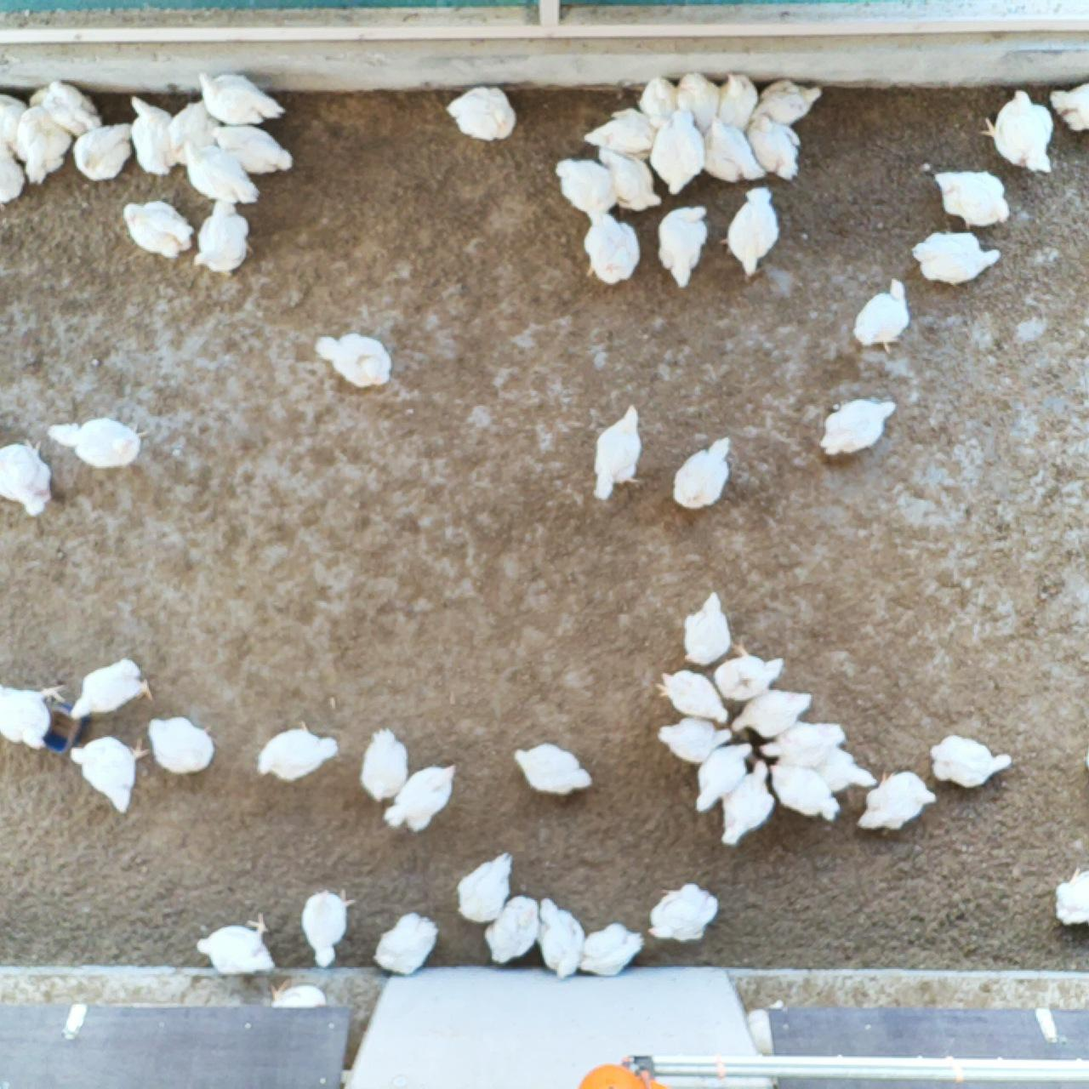chicken: (979, 84, 1059, 173), (44, 409, 148, 473), (68, 736, 148, 814), (255, 714, 344, 784), (650, 199, 712, 299), (194, 68, 288, 131), (854, 766, 940, 834), (589, 401, 645, 505), (910, 227, 1002, 290), (726, 182, 784, 281), (644, 105, 708, 194), (178, 137, 261, 204), (577, 203, 644, 286), (191, 912, 279, 975), (765, 761, 847, 828), (717, 757, 778, 847), (192, 196, 258, 276), (926, 730, 1017, 788), (381, 760, 455, 831), (452, 847, 516, 927), (816, 395, 897, 458), (715, 636, 791, 703), (442, 81, 520, 146), (586, 103, 670, 163), (312, 331, 397, 390), (11, 107, 75, 185), (671, 433, 735, 511), (25, 84, 108, 144), (596, 142, 666, 213), (203, 122, 293, 177), (120, 94, 178, 178), (73, 658, 154, 718), (933, 168, 1012, 229), (0, 436, 58, 519), (759, 718, 848, 772), (649, 879, 724, 943), (731, 686, 816, 742), (0, 677, 65, 750), (693, 737, 754, 814), (850, 276, 910, 354), (511, 739, 593, 796), (700, 115, 766, 185), (119, 194, 191, 258), (146, 712, 216, 777), (535, 897, 589, 980), (652, 713, 738, 765), (483, 892, 542, 966), (375, 911, 442, 976), (683, 587, 735, 670), (301, 885, 353, 967), (654, 666, 729, 722), (72, 120, 134, 187), (554, 151, 616, 218), (744, 112, 803, 182), (575, 921, 646, 978), (747, 76, 823, 129), (794, 747, 878, 794), (359, 728, 411, 803), (673, 68, 725, 141), (168, 98, 221, 163), (715, 71, 766, 138), (636, 72, 681, 133), (1046, 75, 1089, 135), (1053, 864, 1089, 927), (0, 140, 26, 204), (0, 93, 26, 145)
